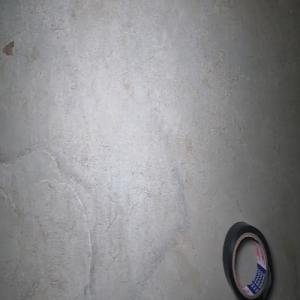Tape: (222, 221, 274, 300)
